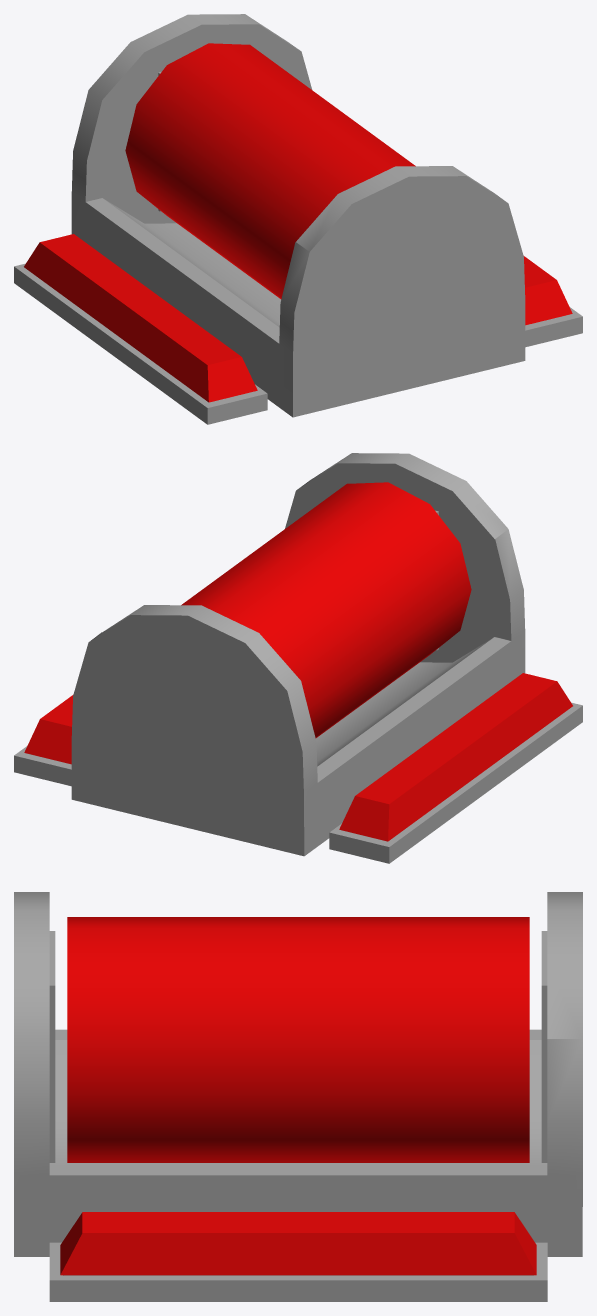
Rendered from CylBatteryHolder.fbx.
The picture shows the model from 3 angles, top to bottom: view 1: azimuth 30°, elevation 25°; view 2: azimuth 150°, elevation 25°; view 3: azimuth 270°, elevation 25°; orthographic projection. The views are drawn at different scales.
Visible parts, largest first — view 1: batteryHolder, FlashObj; view 2: batteryHolder, FlashObj; view 3: FlashObj, batteryHolder.
Part boxes in pixels (x1=…): batteryHolder: x1=14, y1=14, x2=582, y2=424; FlashObj: x1=24, y1=43, x2=572, y2=402; batteryHolder: x1=14, y1=453, x2=582, y2=863; FlashObj: x1=24, y1=482, x2=572, y2=841; FlashObj: x1=60, y1=917, x2=536, y2=1275; batteryHolder: x1=14, y1=892, x2=582, y2=1301.
Size of the model in its own units: 94 by 50.89 by 95.98.
